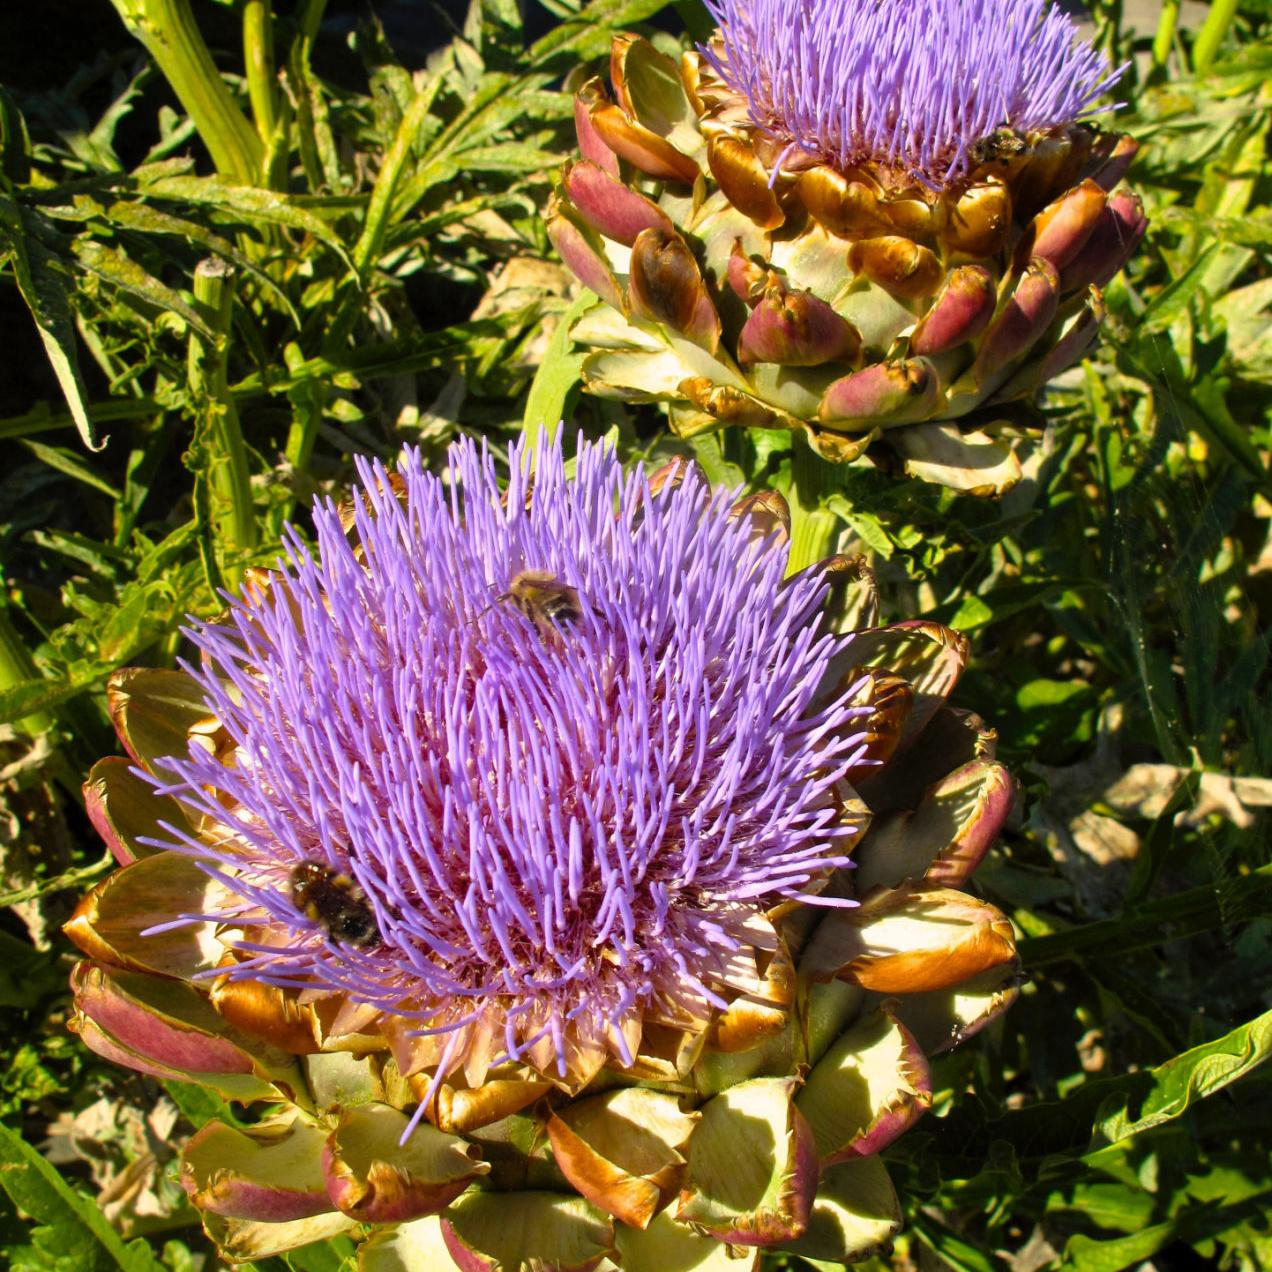thistle: (93, 434, 980, 1173), (598, 3, 1152, 409)
